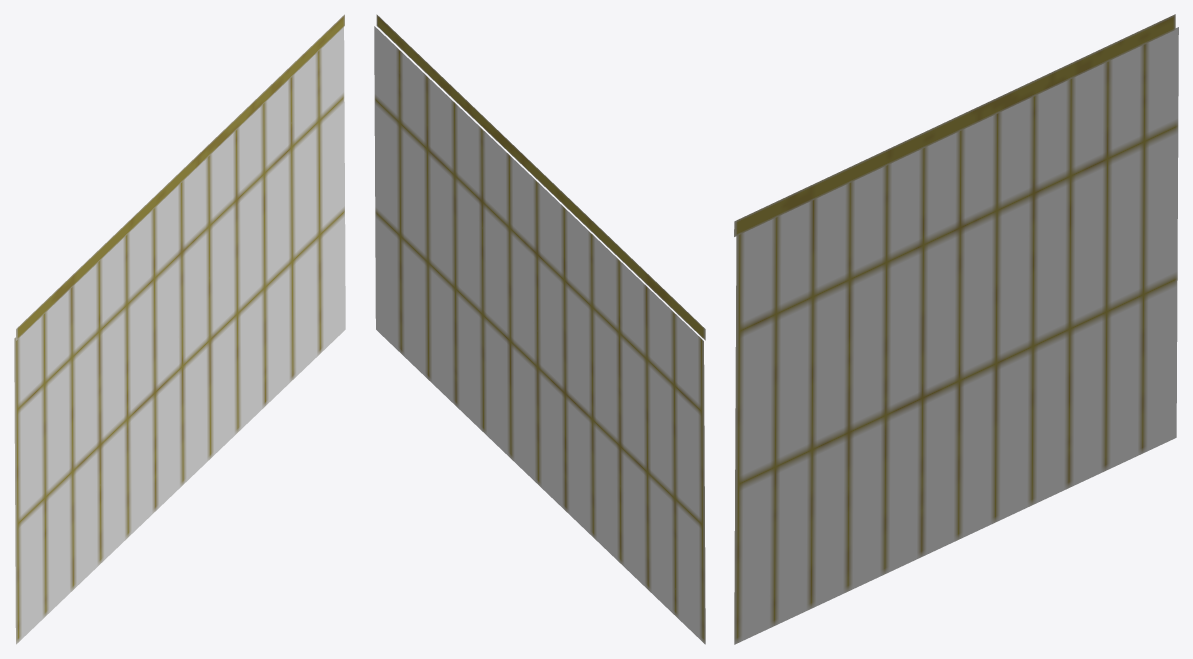
Rendered from weilan3.fbx.
3 views of the same model, side by side, from view 1: azimuth 30°, elevation 25°; view 2: azimuth 150°, elevation 25°; view 3: azimuth 330°, elevation 25° (orthographic). The views are drawn at different scales.
Parts seen in each view (by area): view 1: 平面.077; view 2: 平面.077; view 3: 平面.077.
Boxes of the visible parts, box(x1,y1,x2,y2) form: 平面.077: box(14, 14, 345, 644); 平面.077: box(374, 14, 705, 644); 平面.077: box(734, 14, 1178, 644).
Bounding box in the file's own units: 240 × 382 × 2.18.
